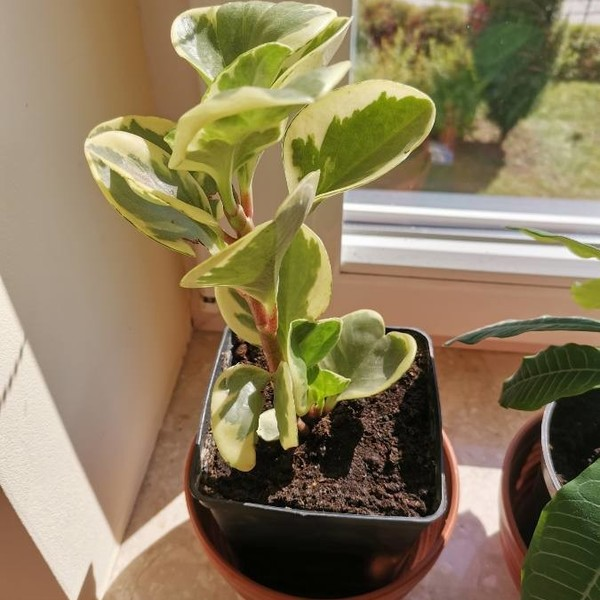obstacle: (80, 19, 475, 588)
